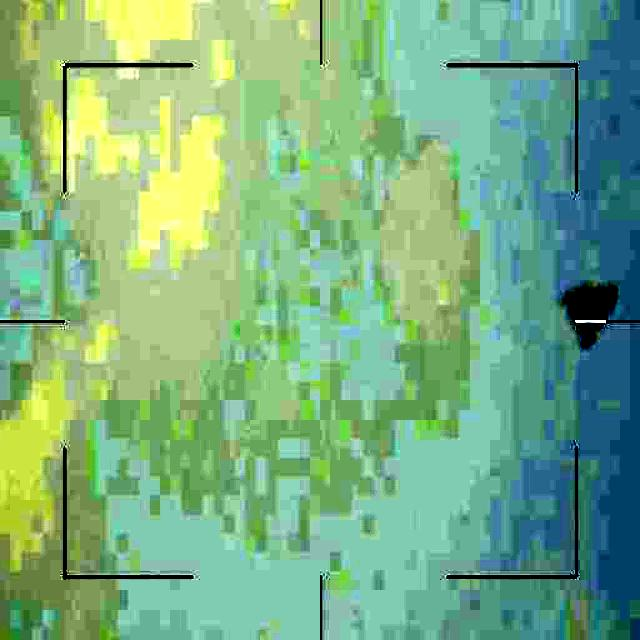bird: (560, 282, 630, 345)
